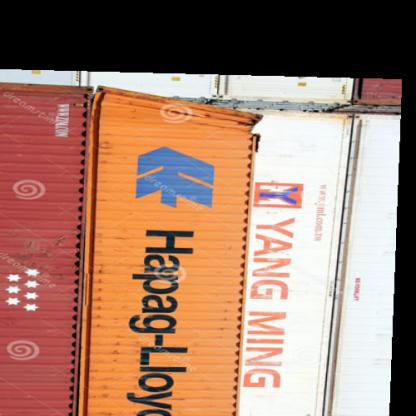Damage: (173, 92, 269, 147)
